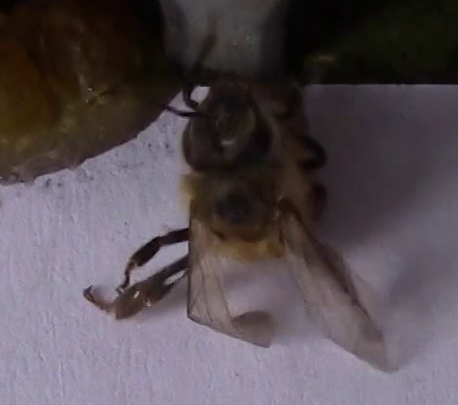Varroa destructor: (308, 183, 334, 227)
